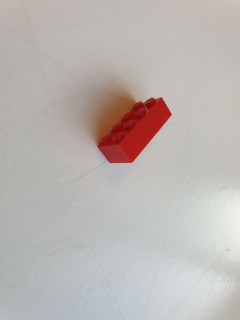2x4 red: (97, 96, 173, 164)
